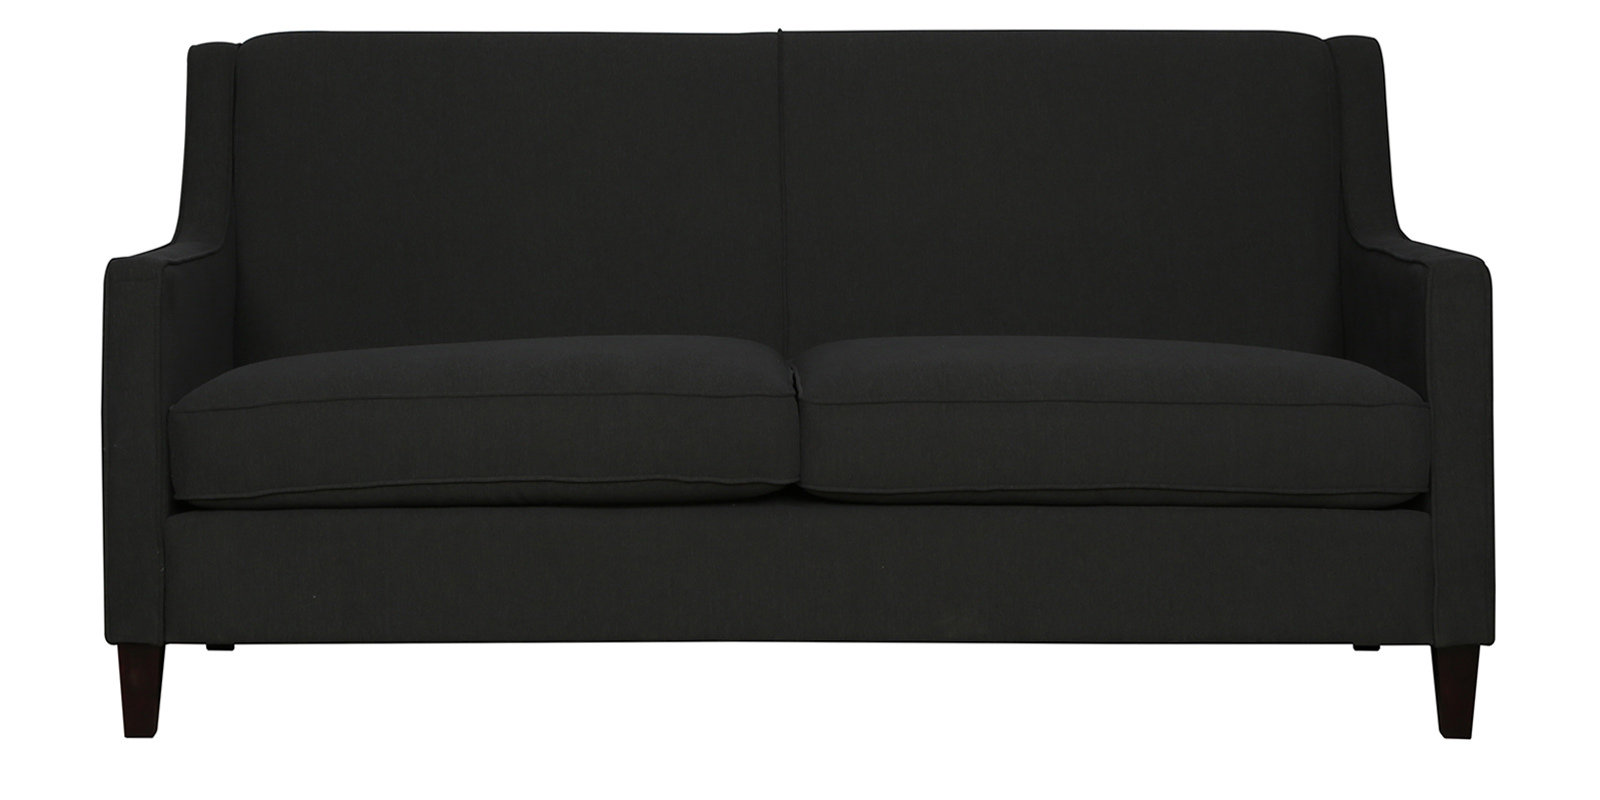Oscar Three Seater Sofa in Charcoal Grey Colour by CasaCraft: (102, 28, 1492, 741)
